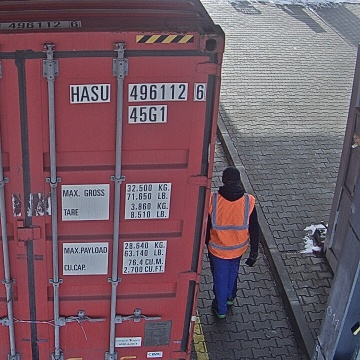serial_id: (71, 84, 204, 101)
